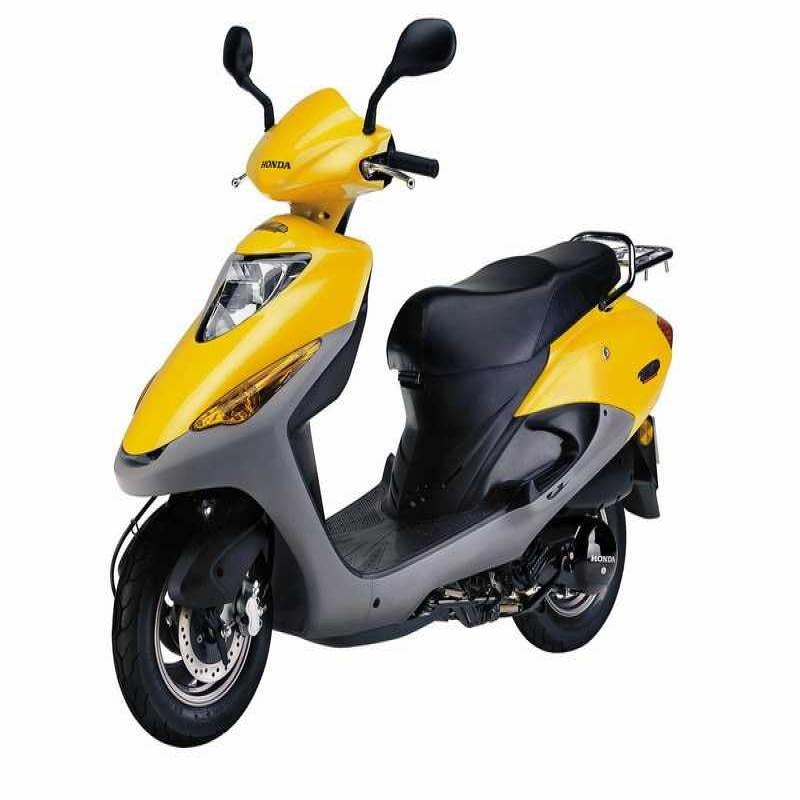bike: (77, 21, 674, 752)
